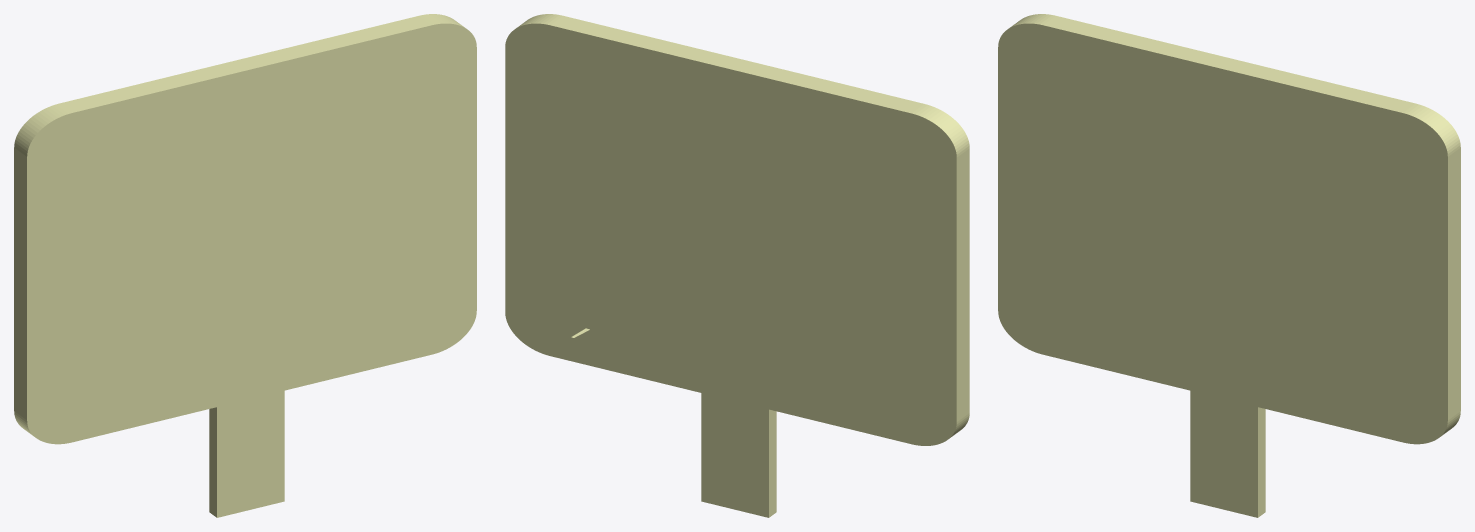
Rendered from notiboard1.fbx.
3 renders of one model, left to right at view 1: azimuth 30°, elevation 25°; view 2: azimuth 150°, elevation 25°; view 3: azimuth 330°, elevation 25°, orthographic.
Parts seen in each view (by area): view 1: Cube.001, Cube; view 2: Cube.001, Cube; view 3: Cube.001, Cube.
Boxes of the visible parts, x1,y1,x2,y2 form: Cube.001: (14, 14, 476, 444); Cube: (209, 390, 284, 517); Cube.001: (505, 14, 969, 445); Cube: (701, 393, 776, 517); Cube.001: (998, 14, 1460, 444); Cube: (1190, 390, 1265, 517).
Bounding box in the file's own units: 200 × 188 × 10.
